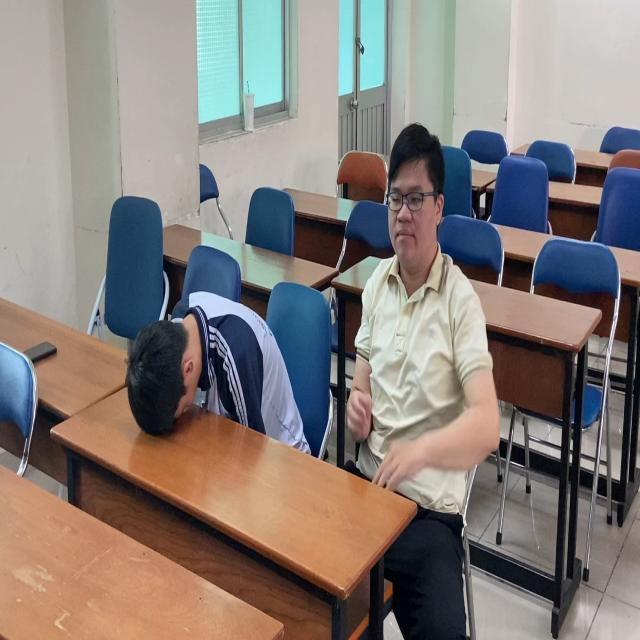sleep: (110, 279, 316, 467)
